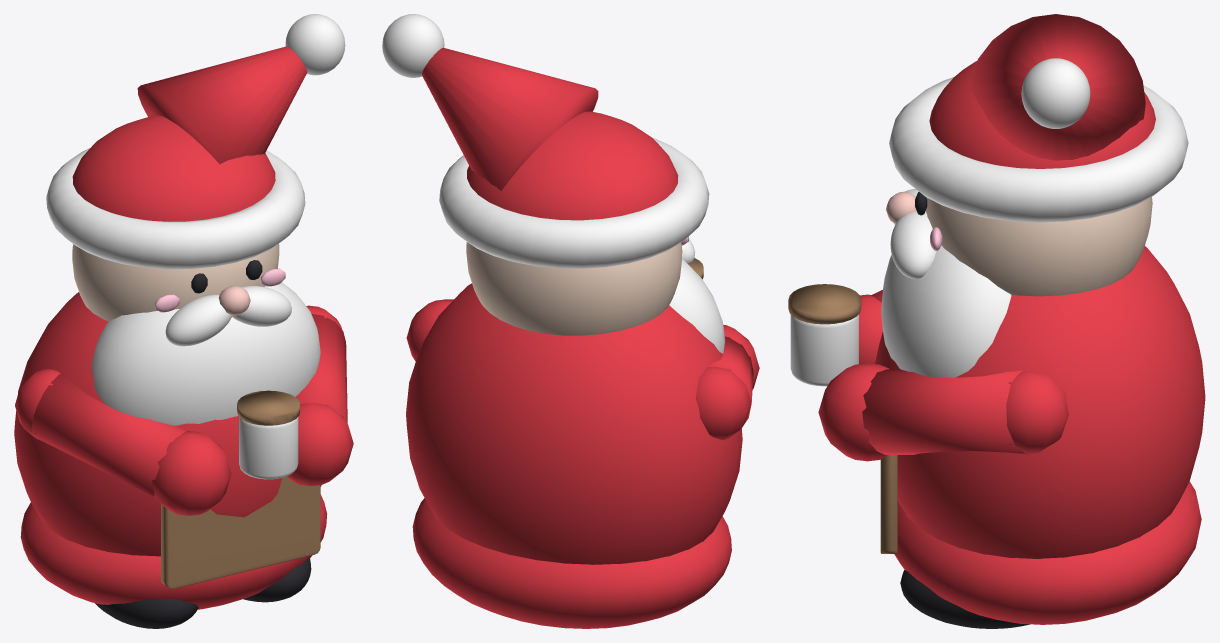
The model's file is barista.glb.
3 views of the same model, side by side, from view 1: azimuth 30°, elevation 25°; view 2: azimuth 150°, elevation 25°; view 3: azimuth 270°, elevation 25° (orthographic). The views are drawn at different scales.
Parts seen in each view (by area): view 1: barista_red, barista_white, barista_brown, barista_skin, barista_black, barista_nose, barista_pink; view 2: barista_red, barista_white, barista_skin; view 3: barista_red, barista_white, barista_skin, barista_brown, barista_black, barista_nose.
Boxes of the visible parts, x1,y1,x2,y2 form: barista_red: (14,46,353,609); barista_white: (46,14,345,479); barista_brown: (161,390,320,588); barista_skin: (72,243,279,321); barista_black: (95,260,311,628); barista_nose: (219,285,250,315); barista_pink: (155,268,285,312); barista_red: (406,47,759,628); barista_white: (382,14,725,353); barista_skin: (466,242,682,335); barista_red: (818,14,1205,624); barista_white: (790,58,1188,386); barista_skin: (925,197,1152,296); barista_brown: (788,284,897,553); barista_black: (900,192,1029,628); barista_nose: (886,191,916,223).
Bounding box in the file's own units: 2.08 × 3.16 × 1.95.
